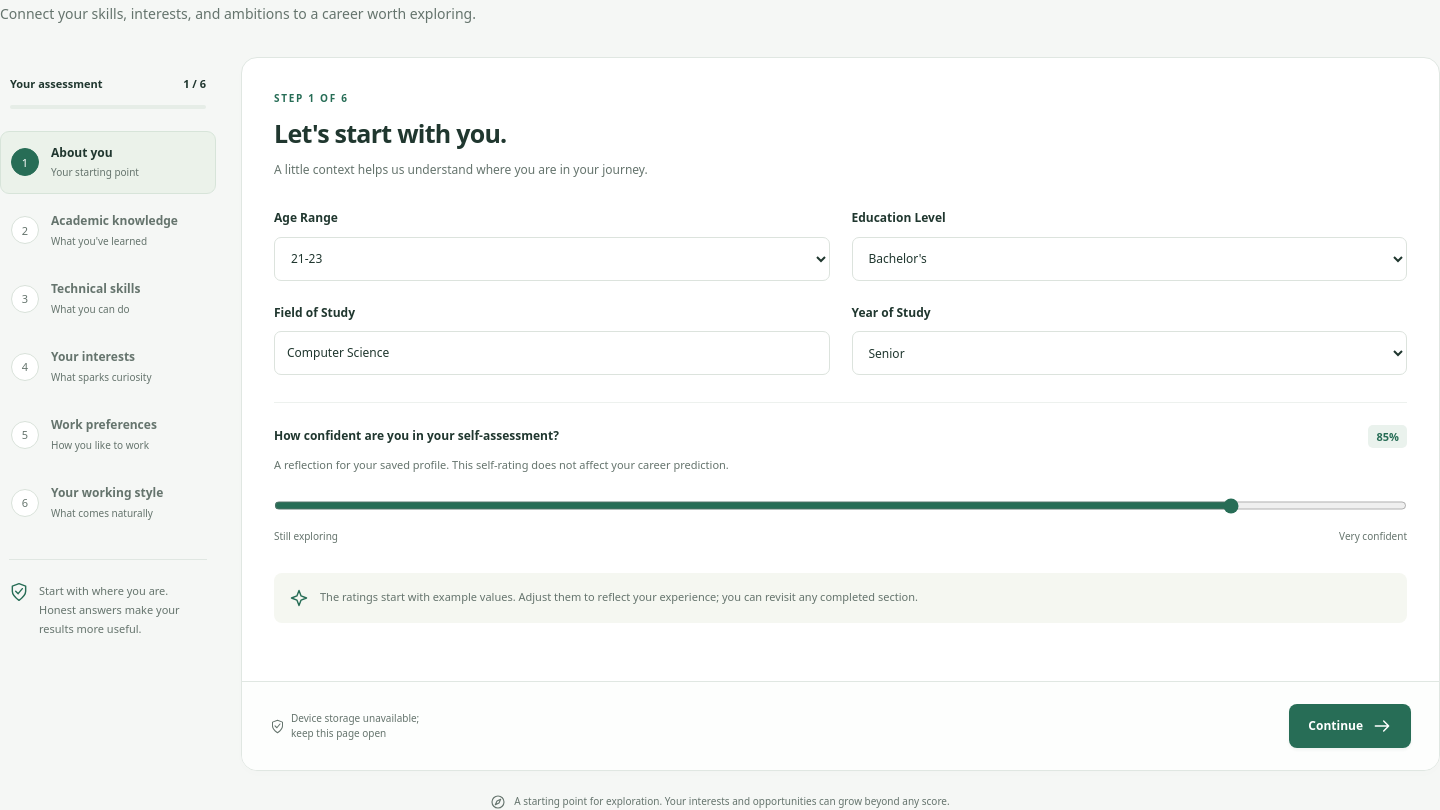
Test: assessment remains usable when device storage is unavailable
This screenshot has width=1440, height=810.
(page scrolled)
Expected: the text "Device storage unavailable; keep this page open" is shown, [270, 711, 425, 742]
Step 1. Click the button "Continue" → (1350, 726), box [1289, 704, 1411, 748]
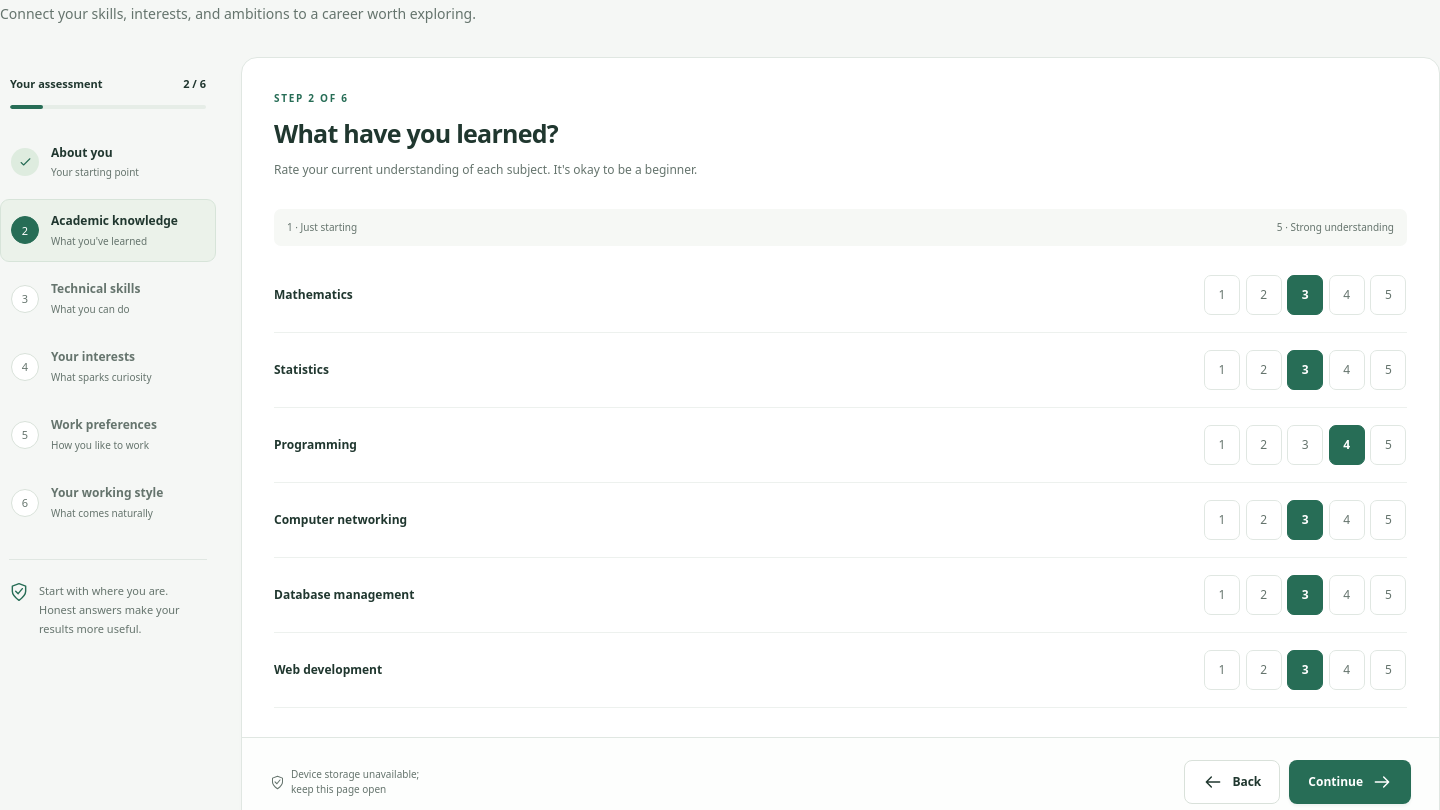
Result: the heading "What have you learned?" is shown at [274, 116, 558, 150]
